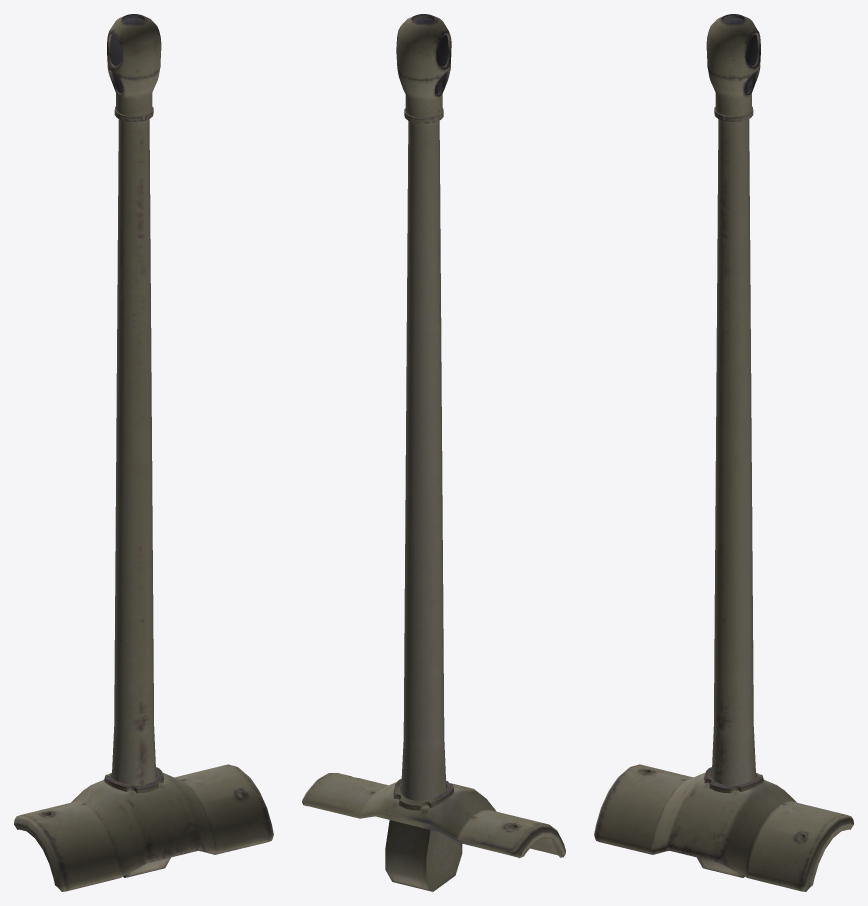
The model's file is Gun_05.glb.
3 views of the same model, side by side, from view 1: azimuth 30°, elevation 25°; view 2: azimuth 150°, elevation 25°; view 3: azimuth 330°, elevation 25° (orthographic).
Parts seen in each view (by area): view 1: set_0_group_0; view 2: set_0_group_0; view 3: set_0_group_0.
Boxes of the visible parts, <box> form: set_0_group_0: <box>14,14,273,891</box>; set_0_group_0: <box>302,14,565,891</box>; set_0_group_0: <box>594,14,853,891</box>.
Bounding box in the file's own units: 1.04 × 3.92 × 0.4918.
Materials: 1 (1 with a texture image).
